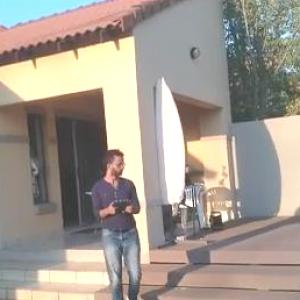follow: (90, 148, 146, 299)
